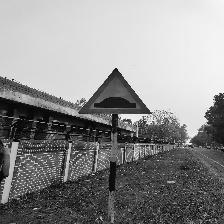Speed-breaker: (79, 70, 150, 113)
